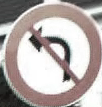Don't turn left: (7, 6, 95, 99)
